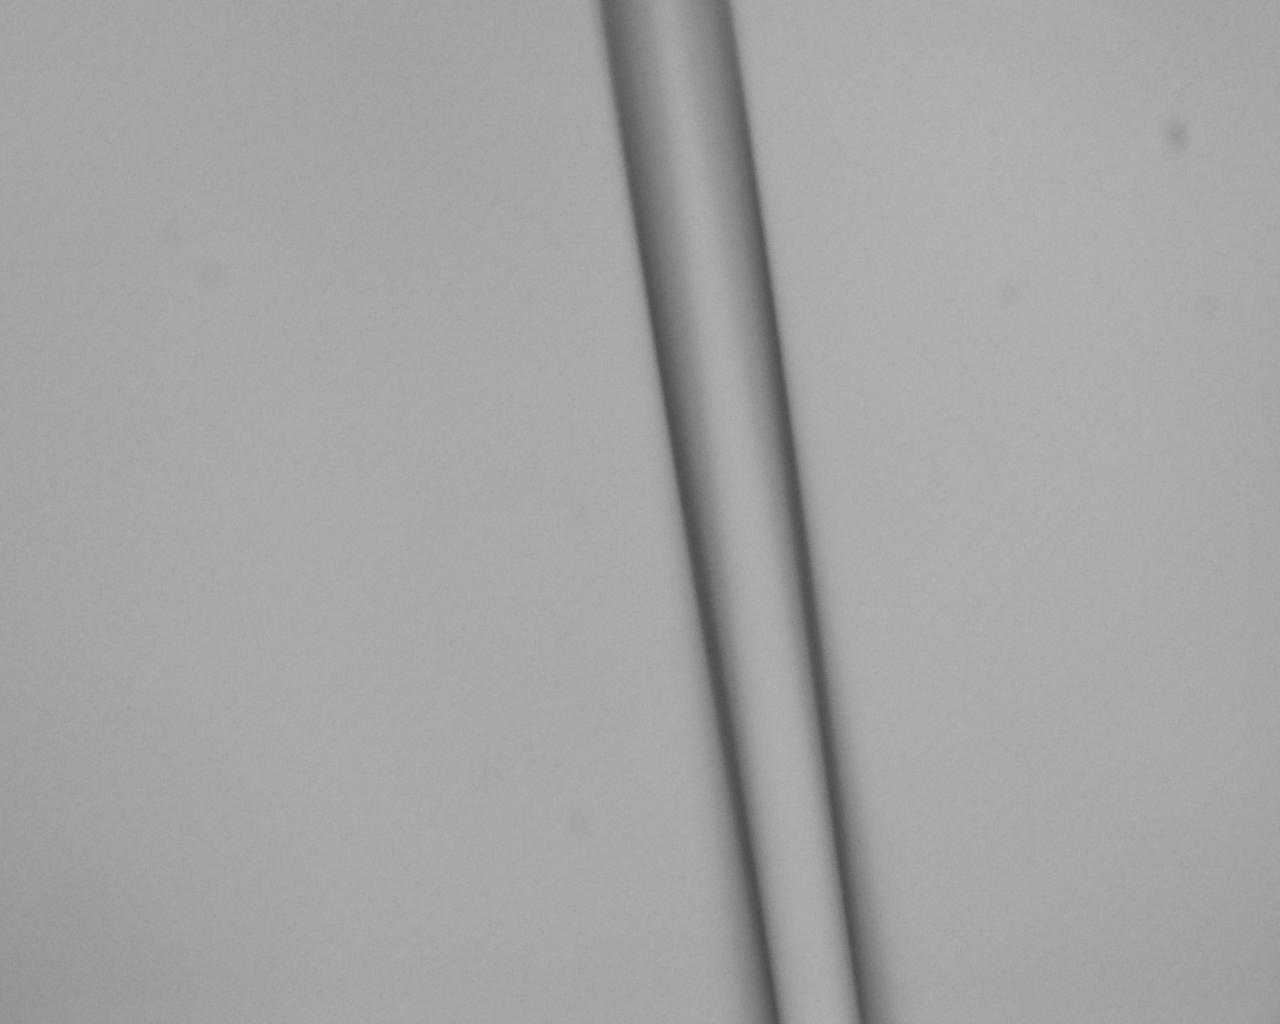fiber: (881, 542, 1280, 1024), (844, 0, 1148, 542), (300, 0, 349, 542)
